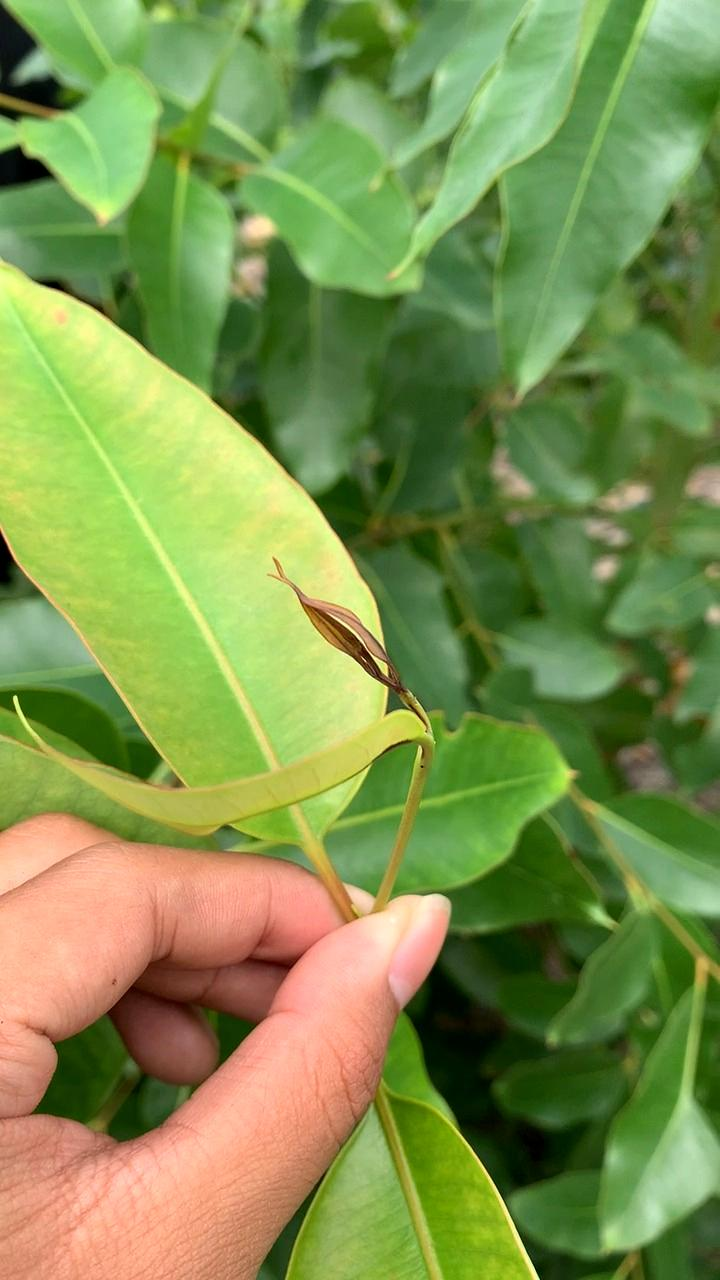Helopeltis-Withered Sprout: (250, 541, 443, 761)
